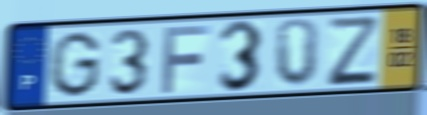0: (273, 16, 321, 90)
3: (217, 18, 266, 95), (107, 26, 153, 96)
F: (159, 22, 213, 96)
G: (46, 29, 103, 100)
Z: (326, 14, 380, 88)
